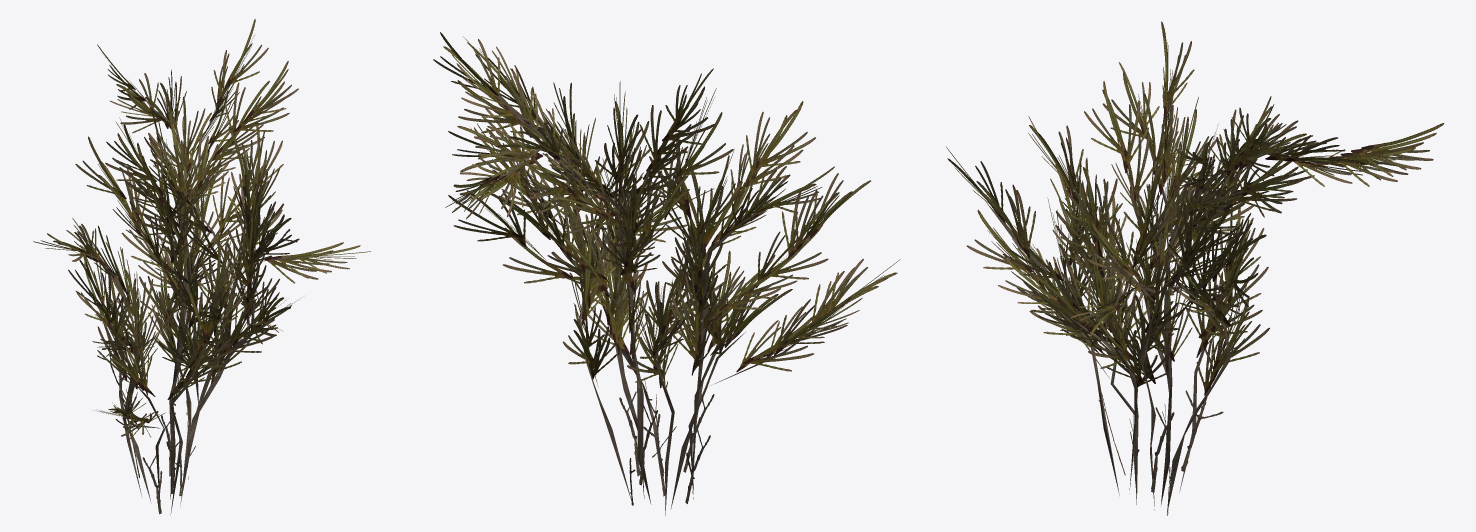
Rendered from bush_dry_d.glb.
3 renders of one model, left to right at view 1: azimuth 30°, elevation 25°; view 2: azimuth 150°, elevation 25°; view 3: azimuth 270°, elevation 25°, orthographic. The views are drawn at different scales.
Parts seen in each view (by area): view 1: bush_dry_d; view 2: bush_dry_d; view 3: bush_dry_d.
Boxes of the visible parts, x1,y1,x2,y2 form: bush_dry_d: (33,19,370,514); bush_dry_d: (433,32,900,515); bush_dry_d: (946,21,1444,515).
Size of the model in its own units: 0.3396 by 0.4071 by 0.3973.
Materials: 2 (2 with a texture image).
